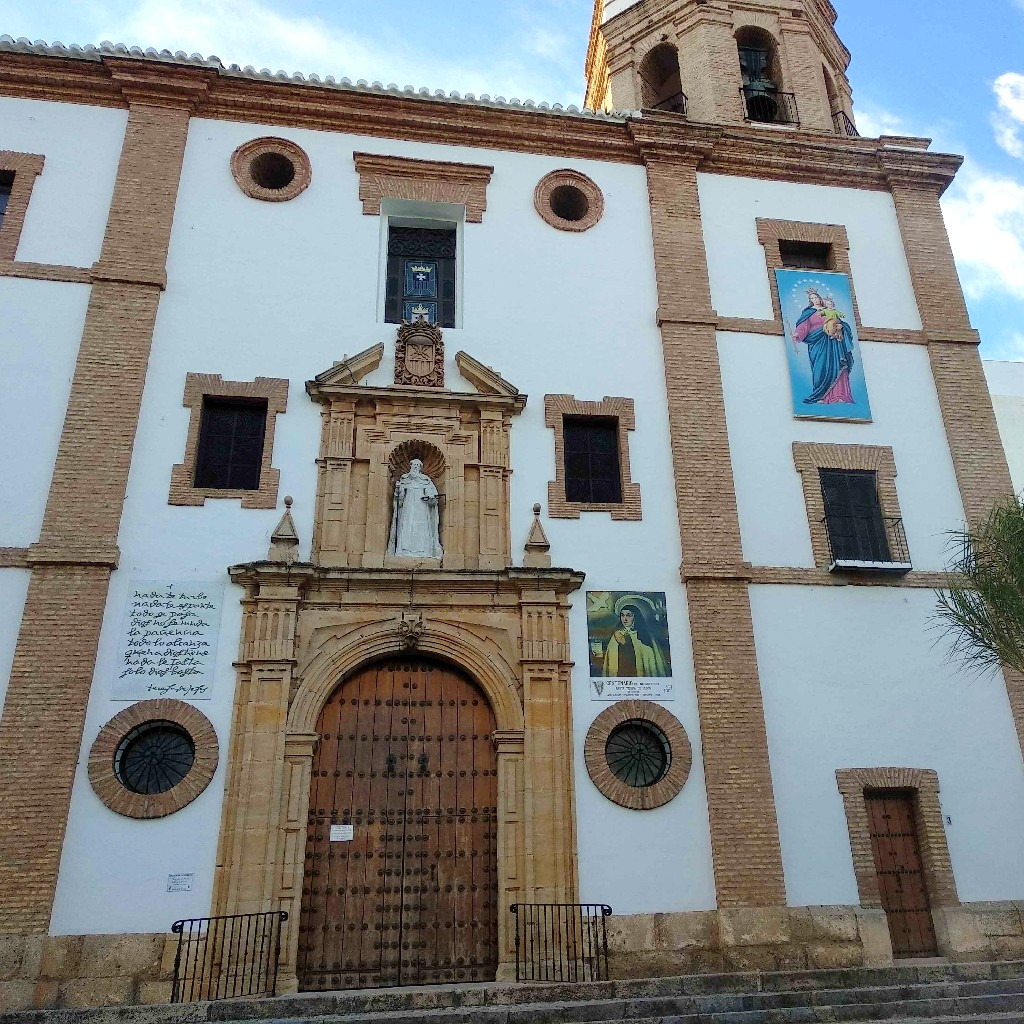arco-medio-punto: (298, 633, 510, 758)
fronton-partido: (305, 341, 531, 408)
